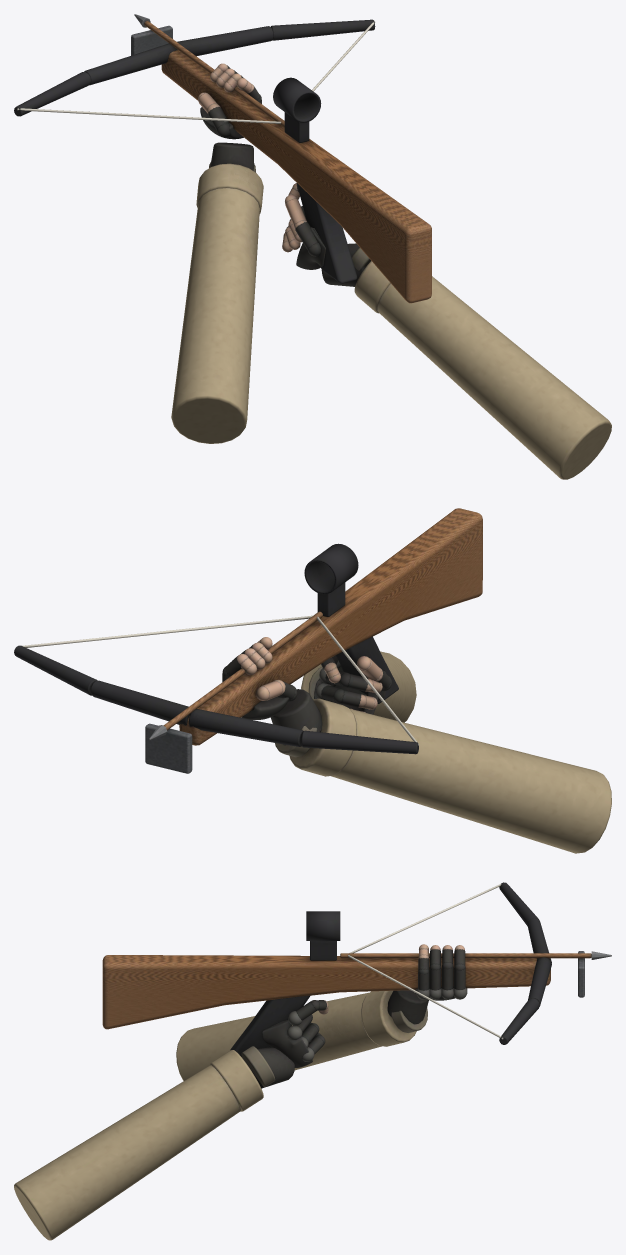
The model's file is armbroest.glb.
3 renders of one model, top to bottom at view 1: azimuth 30°, elevation 25°; view 2: azimuth 150°, elevation 25°; view 3: azimuth 270°, elevation 25°, orthographic. The views are drawn at different scales.
Visible parts, largest first — view 1: hænder, armbroest; view 2: hænder, armbroest; view 3: hænder, armbroest.
Boxes of the visible parts, <box> form: hænder: <box>171,63,611,479</box>; armbroest: <box>14,14,431,303</box>; hænder: <box>222,637,611,853</box>; armbroest: <box>14,508,482,773</box>; hænder: <box>14,944,467,1240</box>; armbroest: <box>102,882,611,1056</box>.
Size of the model in its own units: 0.5529 by 0.4435 by 0.8808.
Materials: 2 (2 with a texture image).
